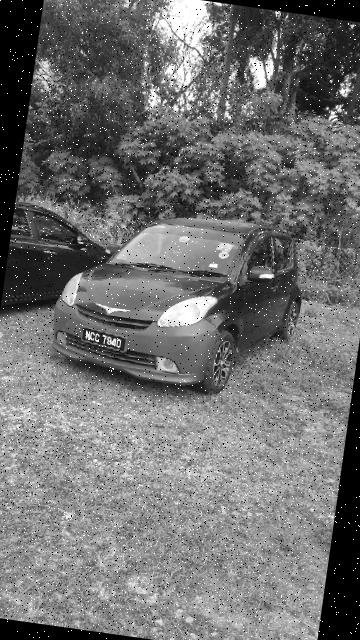License_Plate: (79, 324, 133, 356)
car: (41, 195, 314, 409)
